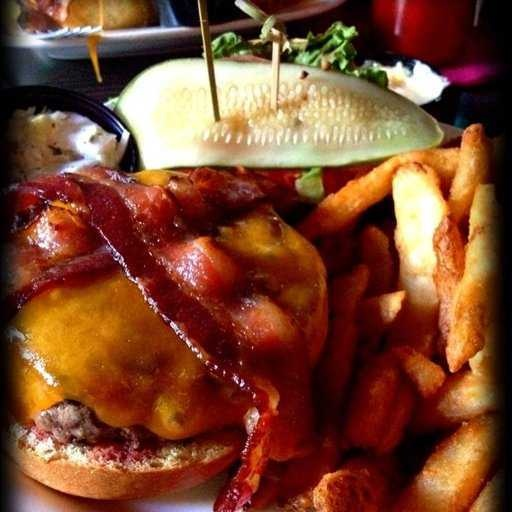hamburger: (1, 178, 309, 485)
